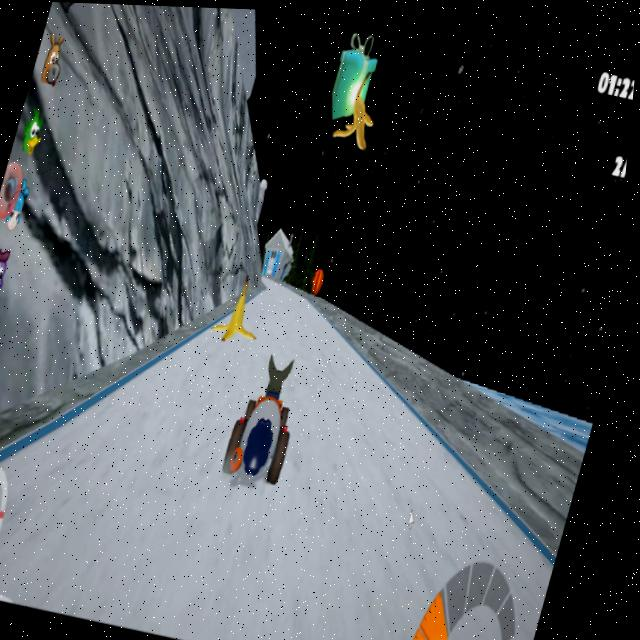obstacle: (218, 270, 274, 353)
player_kart: (219, 344, 321, 496)
track: (260, 281, 335, 347)
